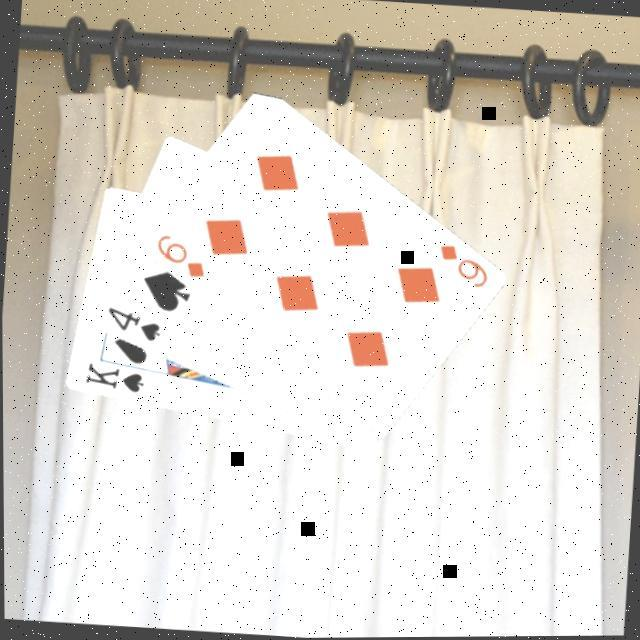4S: (100, 302, 162, 344)
6D: (148, 229, 208, 281), (432, 240, 491, 292)
KS: (78, 358, 146, 397)
